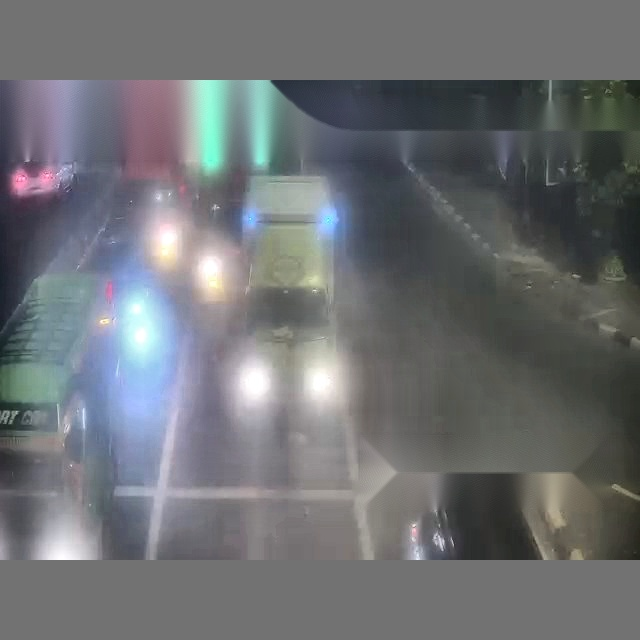Motor: (151, 190, 181, 270)
